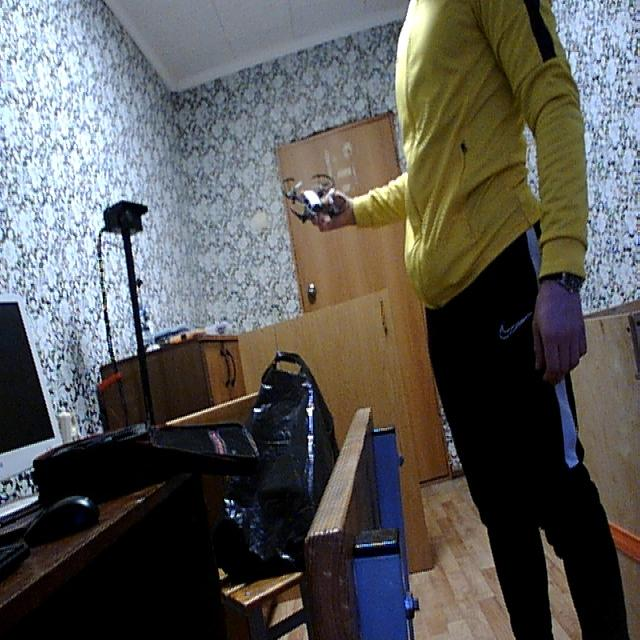drone: (276, 162, 353, 239)
